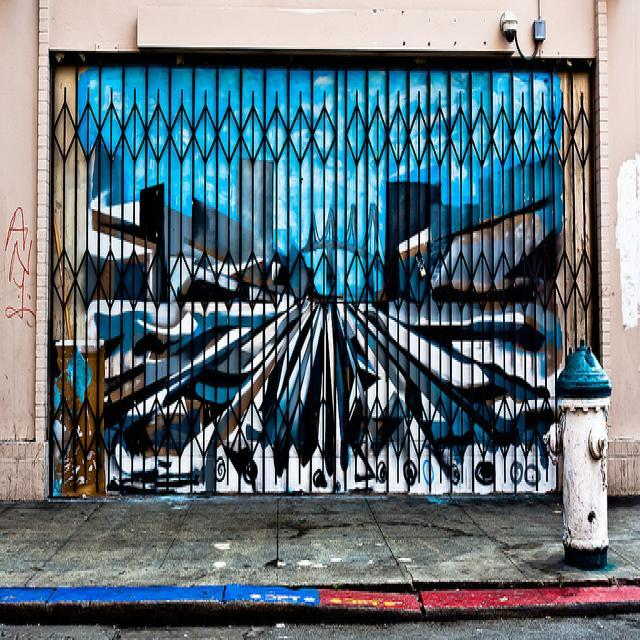fire_hydrant: (544, 336, 613, 569)
